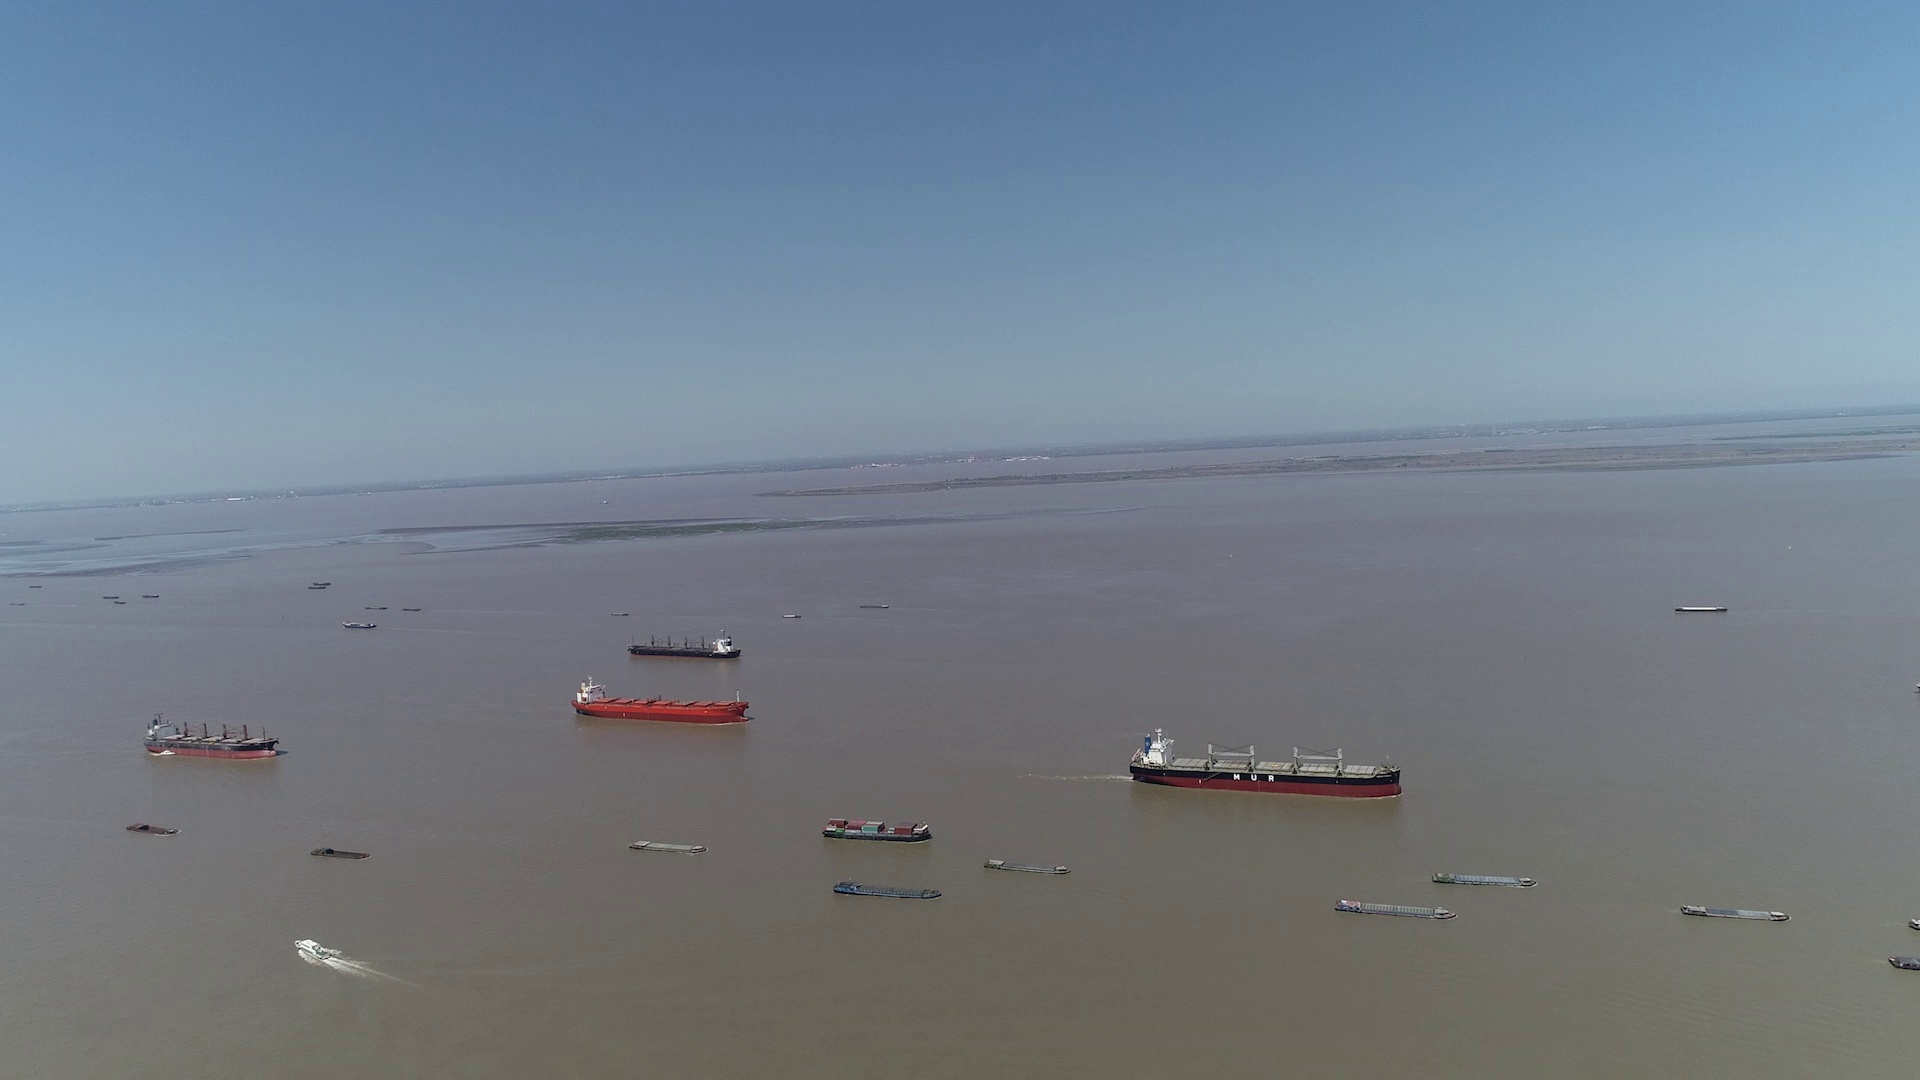ship: (1129, 728, 1402, 796), (574, 676, 748, 723), (146, 712, 278, 758), (626, 632, 742, 659), (822, 816, 934, 843), (1335, 898, 1458, 920), (833, 880, 942, 899), (1677, 902, 1789, 920), (1429, 869, 1534, 887), (985, 858, 1071, 876), (626, 837, 705, 853), (295, 939, 335, 960), (313, 848, 371, 860), (123, 823, 177, 835), (1888, 953, 1920, 973), (1673, 605, 1727, 613), (342, 620, 378, 629)
